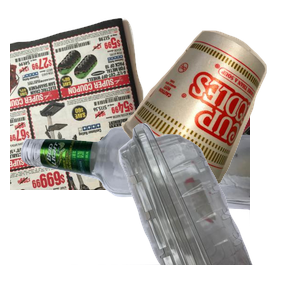glass: (18, 124, 258, 300)
paper: (10, 15, 250, 195)
plastic: (71, 120, 300, 300)
trash: (119, 28, 300, 207)
